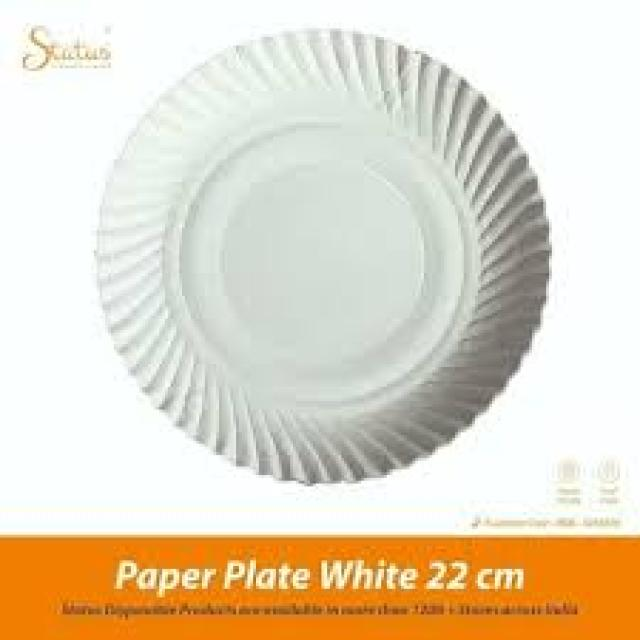PaperCardboard: (89, 29, 552, 486)
